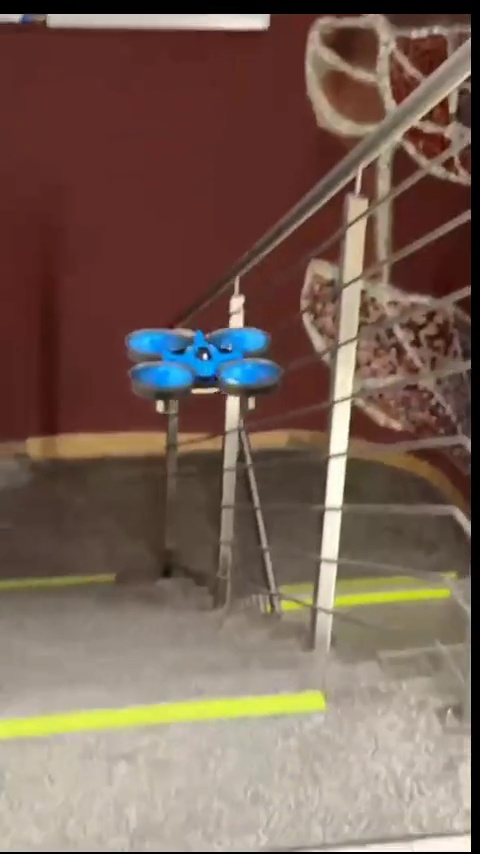drone: (117, 320, 281, 420)
